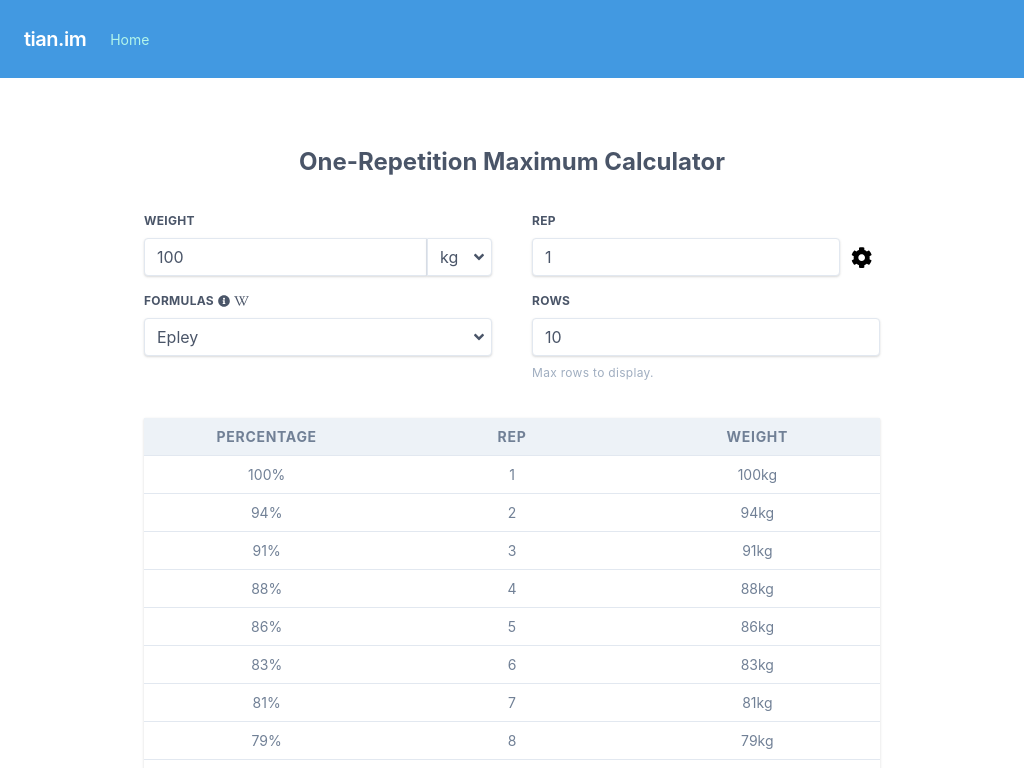
change weight
Step 1. Replace the text in the number field with test id "weightInput" with "1000" → (286, 257), box [144, 238, 427, 276]
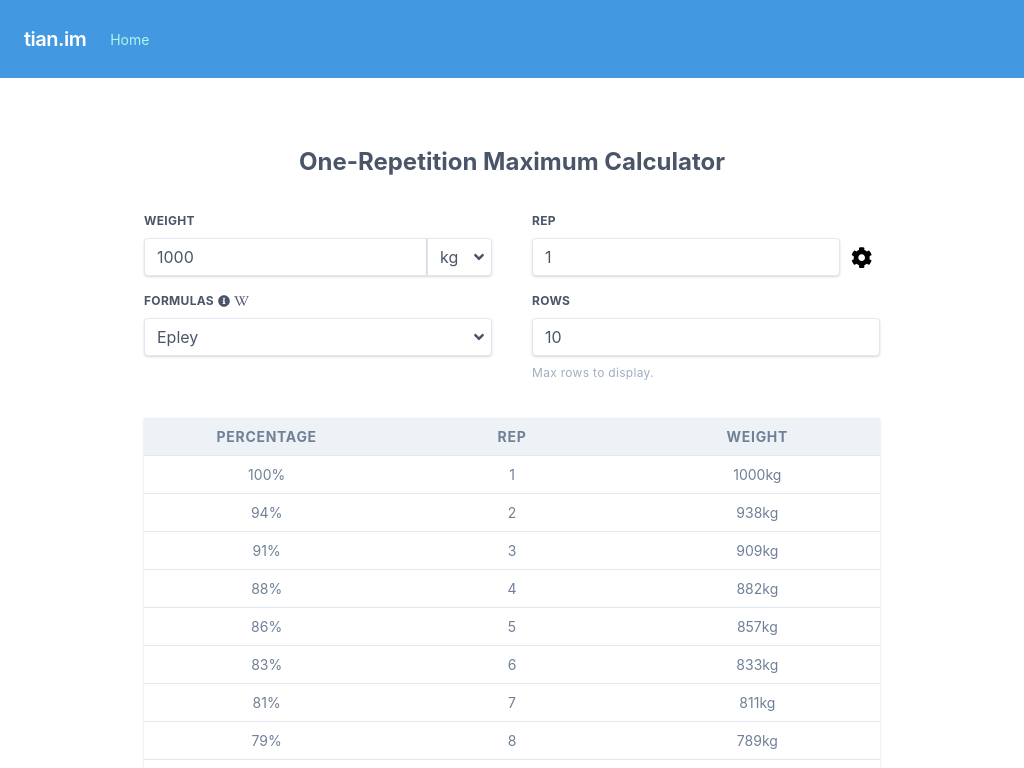
Expected: the number field with test id "repInput" holds "1", [532, 238, 840, 276]
Result: the text "1000kg" is shown at [635, 456, 880, 494]
Result: the text "938kg" is shown at [635, 494, 880, 532]
